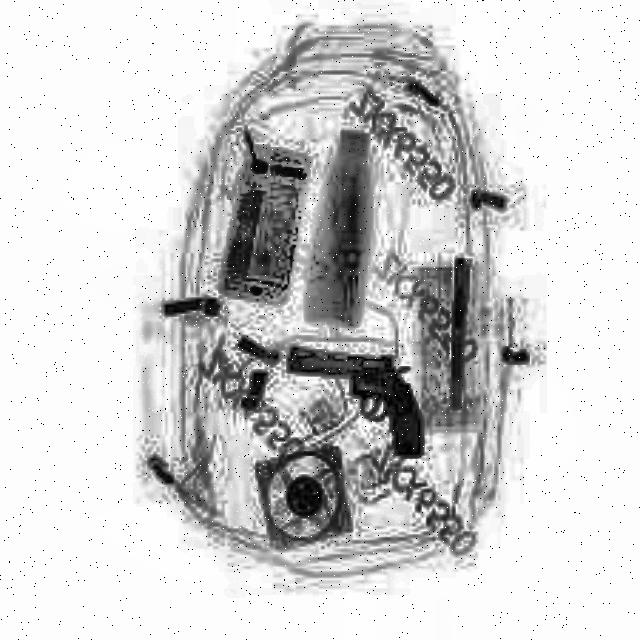Gun: (282, 348, 423, 464)
